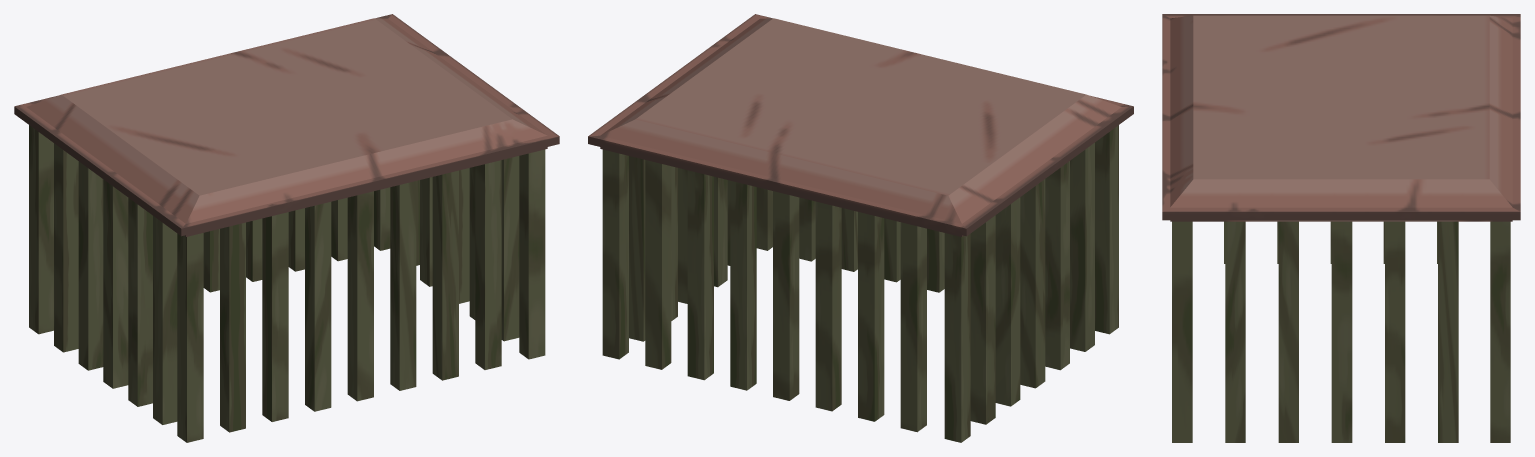
File: Modelos3D_Hondonada_Jaula_Ilya.fbx
The picture shows the model from 3 angles, left to right: view 1: azimuth 30°, elevation 25°; view 2: azimuth 150°, elevation 25°; view 3: azimuth 270°, elevation 25°; orthographic projection. The views are drawn at different scales.
Visible parts, largest first — view 1: Cube.001; view 2: Cube.001; view 3: Cube.001.
Part boxes in pixels (bbox=[...]): Cube.001: bbox=[14, 14, 559, 442]; Cube.001: bbox=[588, 14, 1133, 442]; Cube.001: bbox=[1162, 14, 1520, 442].
Bounding box in the file's own units: 787 × 466 × 602.
